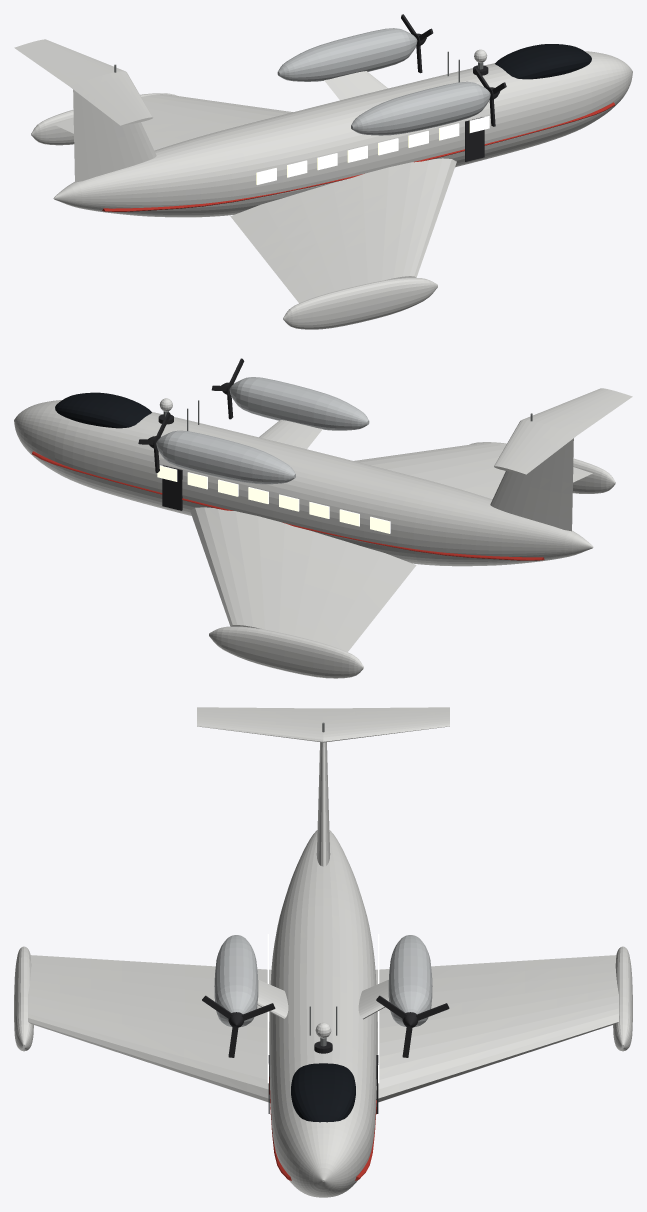
The model's file is wig30.glb.
The picture shows the model from 3 angles, top to bottom: view 1: azimuth 30°, elevation 25°; view 2: azimuth 150°, elevation 25°; view 3: azimuth 270°, elevation 25°; orthographic projection. The views are drawn at different scales.
Visible parts, largest first — view 1: wig30; view 2: wig30; view 3: wig30.
Part boxes in pixels (bbox=[...]): wig30: bbox=[14, 14, 632, 329]; wig30: bbox=[14, 358, 632, 678]; wig30: bbox=[14, 707, 632, 1197].
Bounding box in the file's own units: 30.1 × 9.62 × 23.47.
